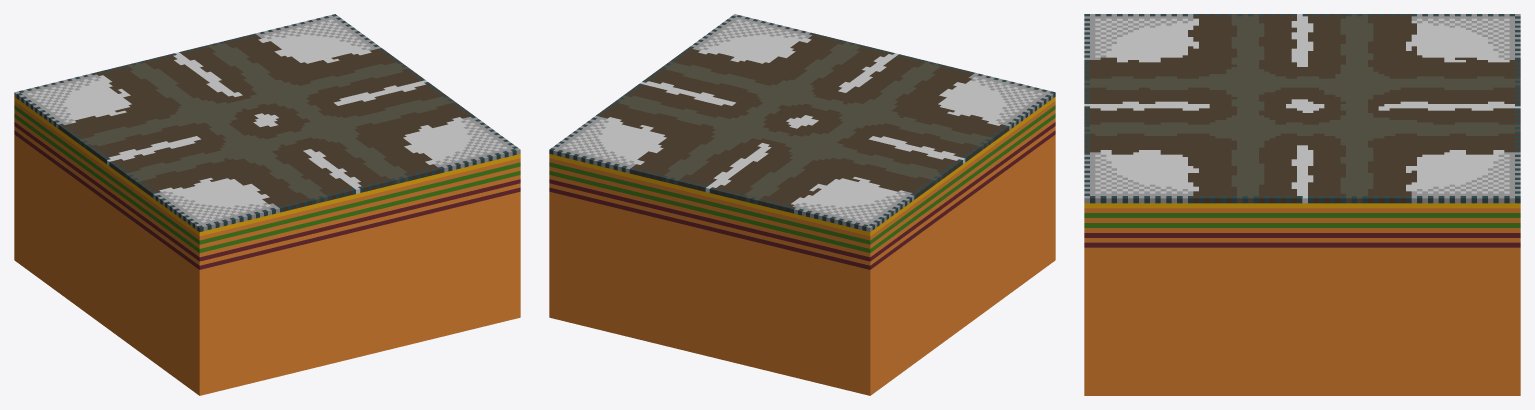
File: snow_dirt_road_4_tile.obj
The picture shows the model from 3 angles, left to right: view 1: azimuth 30°, elevation 25°; view 2: azimuth 150°, elevation 25°; view 3: azimuth 270°, elevation 25°; orthographic projection. The views are drawn at different scales.
Size of the model in its own units: 8 by 4 by 8.
Materials: 1 (1 with a texture image).
